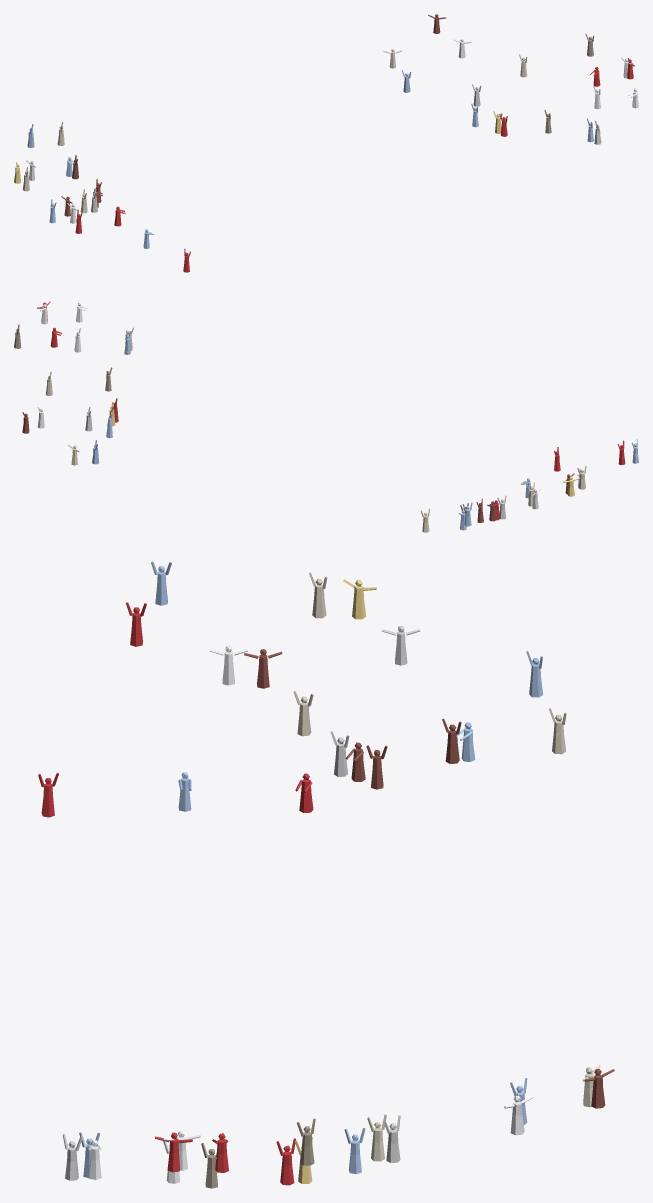
The model's file is Guests0.obj.
3 views of the same model, one above another, from view 1: azimuth 30°, elevation 25°; view 2: azimuth 150°, elevation 25°; view 3: azimuth 270°, elevation 25° (orthographic). The views are drawn at different scales.
Visible parts, largest first — view 1: Guests0; view 2: Guests0; view 3: Guests0.
Part boxes in pixels (x1,y1,x2,y2): Guests0: (14,14,638,272); Guests0: (14,302,638,532); Guests0: (38,561,614,1188).
Bounding box in the file's own units: 82 × 10.05 × 34.88.
Materials: 1 (1 with a texture image).
